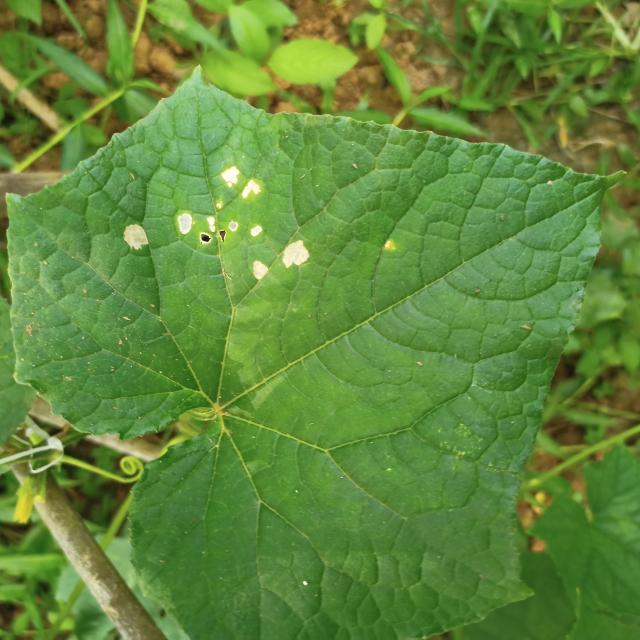disease_cucumber: (125, 164, 309, 280)
